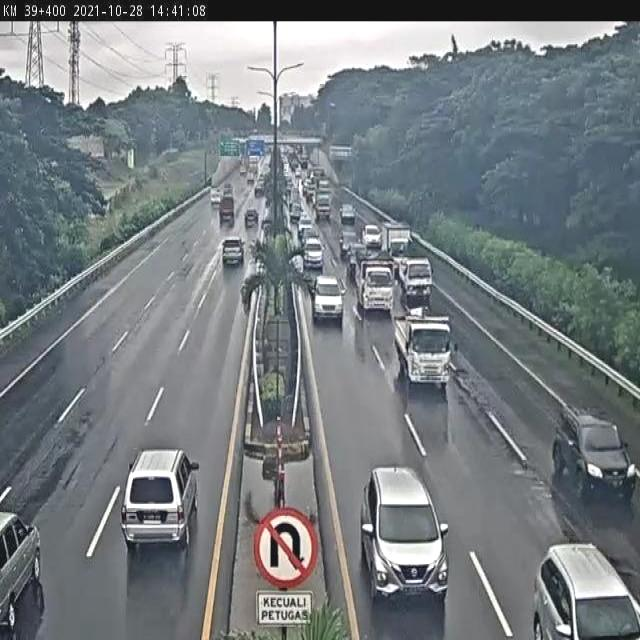Car: (361, 464, 450, 602), (532, 543, 640, 637), (121, 435, 203, 555), (553, 408, 635, 501), (0, 510, 41, 630), (393, 311, 454, 391), (355, 258, 395, 315), (397, 258, 434, 309), (312, 275, 344, 324), (302, 238, 324, 272), (340, 230, 360, 264), (222, 237, 244, 266), (361, 224, 383, 250), (298, 218, 314, 246), (340, 203, 356, 224), (244, 208, 258, 228), (290, 202, 302, 223), (210, 188, 222, 208), (254, 178, 265, 196), (222, 182, 233, 197)
